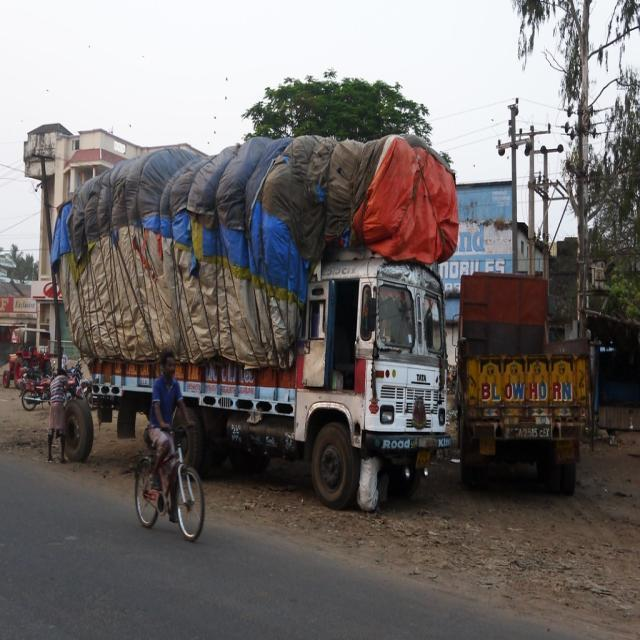uncovered: (52, 129, 420, 504), (460, 267, 594, 491)
